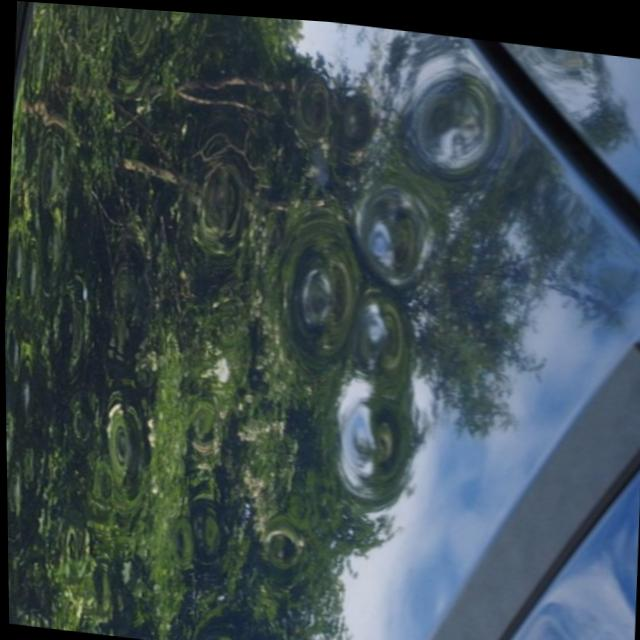Dent: (398, 61, 520, 186), (309, 366, 413, 512), (338, 176, 444, 276), (280, 236, 365, 324)
